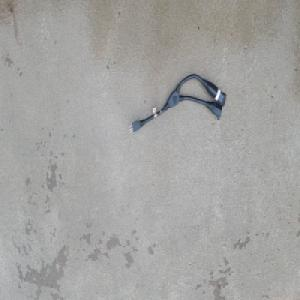Wire: (127, 73, 227, 135)
